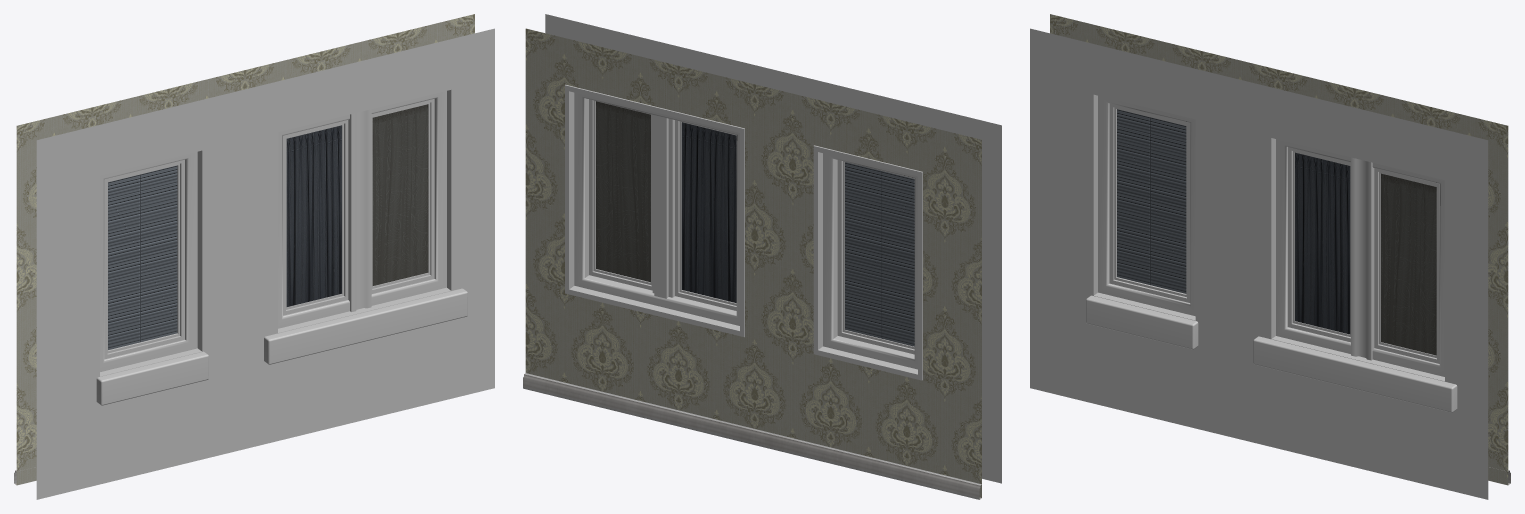
Rendered from House_05_Window_06.fbx.
3 renders of one model, left to right at view 1: azimuth 30°, elevation 25°; view 2: azimuth 150°, elevation 25°; view 3: azimuth 330°, elevation 25°, orthographic.
Visible parts, largest first — view 1: House_05_Window_06_LOD0; view 2: House_05_Window_06_LOD0; view 3: House_05_Window_06_LOD0.
Part boxes in pixels (left/top/right/bottom): House_05_Window_06_LOD0: left=14, top=14, right=494, bottom=499; House_05_Window_06_LOD0: left=523, top=14, right=1001, bottom=499; House_05_Window_06_LOD0: left=1030, top=14, right=1510, bottom=499.
Size of what is drawn, in the model's own units: 400 by 300 by 41.19.
